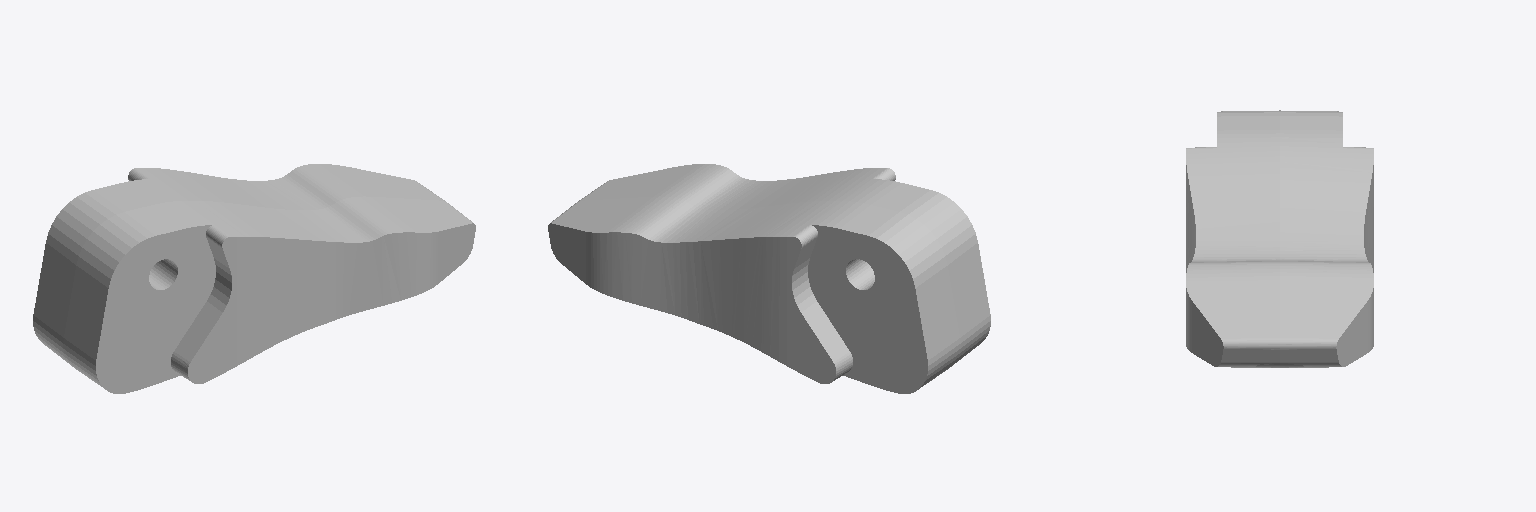
File: j2n6s300_link_finger_tip_1_visuals_mesh_0.obj
3 renders of one model, left to right at view 1: azimuth 30°, elevation 25°; view 2: azimuth 150°, elevation 25°; view 3: azimuth 270°, elevation 25°, orthographic.
Bounding box in the file's own units: 0.0532 × 0.0201 × 0.0225.